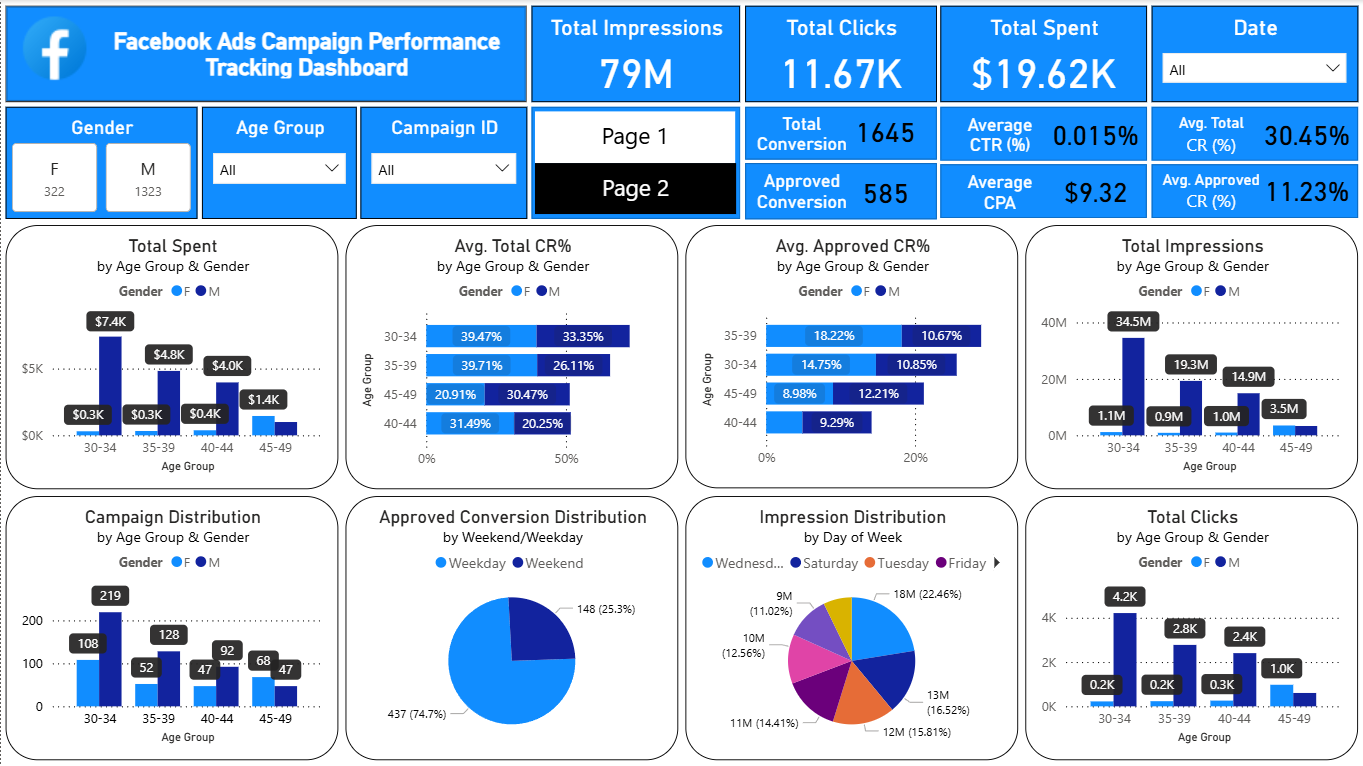

The page's visual inventory and layout, read from the dashboard file:
{"tool":"powerbi","page":{"name":"Page 2","canvas":[1280,720],"ordinal":1},"visuals":[{"type":"shape","box":[4.3,5.4,489.8,90.6],"z":0},{"type":"image","box":[8.6,4.3,83.1,82],"z":1000},{"type":"textbox","box":[66.9,11.9,448.8,66.9],"z":2000},{"type":"card","title":"Total Impressions","fields":{"Values":["Sum(data.impressions)"]},"box":[498.4,5.4,196.3,90.6],"z":3000},{"type":"card","title":"Total Spent","fields":{"Values":["Sum(data.spent)"]},"box":[882.5,5.4,194.2,90.6],"z":4000},{"type":"advancedSlicerVisual","title":"Gender","fields":{"Label":["Sum(data.total_conversion)"],"Values":["data.gender"]},"box":[4.3,100.3,180.2,105.7],"z":5000},{"type":"slicer","title":"Age Group","fields":{"Values":["data.age_group"]},"box":[188.8,100.3,145.6,105.7],"z":6000},{"type":"slicer","title":"Campaign  ID","fields":{"Values":["data.campaign_id"]},"box":[337.5,100.5,156.8,105.3],"z":7000},{"type":"shape","box":[497.9,100.5,196.3,105.3],"z":8000},{"type":"actionButton","box":[501.5,104.1,187.9,49],"z":9000},{"type":"actionButton","box":[501.5,153.2,189.1,47.9],"z":10000},{"type":"slicer","title":"Date","fields":{"Values":["data.DateLabel"]},"box":[1081,5.4,194,90.6],"z":11000},{"type":"card","title":"Total Clicks","fields":{"Values":["Sum(data.clicks)"]},"box":[699,5.4,180,90.6],"z":12000},{"type":"shape","box":[882.5,100.3,194.2,50.7],"z":13000},{"type":"shape","box":[882.5,154.3,194,50.7],"z":14000},{"type":"shape","box":[1081,154.3,194,50.7],"z":15000},{"type":"shape","box":[1081,100,194,50.7],"z":16000},{"type":"textbox","box":[882.5,100.3,112,50],"z":17000},{"type":"card","title":"Avg. CTR (%)","fields":{"Values":["Avg(data.CTR)"]},"box":[979.6,100.3,97.1,50.7],"z":18000},{"type":"textbox","box":[882.5,154.3,112.2,50.7],"z":19000},{"type":"card","title":"Avg. CTR (%)","fields":{"Values":["Avg(data.CPA)"]},"box":[979.6,154.3,97.1,50.7],"z":20000},{"type":"textbox","box":[1081,154,112,50],"z":21000},{"type":"card","title":"Avg. CTR (%)","fields":{"Values":["Avg(data.CR%)"]},"box":[1178.1,153.2,97.1,50.7],"z":22000},{"type":"textbox","box":[1081,100.3,111.1,51],"z":23000},{"type":"textbox","box":[1081,101.4,112.2,49.6],"z":24000},{"type":"card","title":"Avg. CTR (%)","fields":{"Values":["Avg(data.Total CR%)"]},"box":[1178.1,100.3,97.1,50.7],"z":25000},{"type":"barChart","title":"Avg. Approved CR%","fields":{"Category":["data.age_group"],"Y":["Avg(data.Approved CR%)"],"Series":["data.gender"]},"box":[643,211.5,312.9,247.1],"z":26000},{"type":"clusteredColumnChart","title":"Campaign Distribution","fields":{"Category":["data.age_group"],"Series":["data.gender"],"Y":["CountNonNull(data.campaign_id)"]},"box":[4.3,466.1,312.9,248.1],"z":27000},{"type":"barChart","title":"Avg. Total CR%","fields":{"Category":["data.age_group"],"Series":["data.gender"],"Y":["Avg(data.Total CR%)"]},"box":[324,211.5,313,248.1],"z":28000},{"type":"clusteredColumnChart","title":"Total Spent","fields":{"Category":["data.age_group"],"Series":["data.gender"],"Y":["Sum(data.spent)"]},"box":[4.3,211.5,312.9,248.1],"z":29000},{"type":"clusteredColumnChart","title":"Total Impressions","fields":{"Category":["data.age_group"],"Series":["data.gender"],"Y":["Sum(data.impressions)"]},"box":[962.3,211.5,312.9,248.1],"z":30000},{"type":"pieChart","title":"Approved Conversion Distribution","fields":{"Y":["Sum(data.approved_conversion)"],"Category":["data.WeekdayWeekend"]},"box":[323.6,466.1,312.9,248.1],"z":31000},{"type":"pieChart","title":"Impression Distribution","fields":{"Y":["Sum(data.impressions)"],"Category":["data.DayOfWeek"]},"box":[643,466.1,312.9,248.1],"z":32000},{"type":"clusteredColumnChart","title":"Total Clicks","fields":{"Category":["data.age_group"],"Series":["data.gender"],"Y":["Sum(data.clicks)"]},"box":[962.3,466.1,312.9,248.1],"z":33000},{"type":"shape","box":[699.1,100.3,180.2,49.6],"z":34000},{"type":"shape","box":[699.1,153.2,180.2,52.9],"z":35000},{"type":"textbox","box":[699.1,99.3,106.8,51.8],"z":36000},{"type":"card","title":"Avg. CTR (%)","fields":{"Values":["Sum(data.approved_conversion)"]},"box":[782.2,155.4,97.1,50.7],"z":37000},{"type":"card","title":"Avg. CTR (%)","fields":{"Values":["Sum(data.total_conversion)"]},"box":[782.2,98.2,97.1,50.7],"z":38000},{"type":"textbox","box":[699.1,153.2,106.8,51.8],"z":39000}]}

Visuals, with their boxes in screenshot pixels (x1, y1, x2, y2), scaled from the page's 1280x720 canvas onto the 1363x766 screenshot:
shape: (5,6,526,102)
image: (9,5,98,92)
textbox: (71,13,549,84)
"Total Impressions" card: (531,6,740,102)
"Total Spent" card: (940,6,1147,102)
"Gender" advancedSlicerVisual: (5,107,196,219)
"Age Group" slicer: (201,107,356,219)
"Campaign  ID" slicer: (359,107,526,219)
shape: (530,107,739,219)
actionButton: (534,111,734,163)
actionButton: (534,163,735,214)
"Date" slicer: (1151,6,1358,102)
"Total Clicks" card: (744,6,936,102)
shape: (940,107,1147,161)
shape: (940,164,1146,218)
shape: (1151,164,1358,218)
shape: (1151,106,1358,160)
textbox: (940,107,1059,160)
"Avg. CTR (%)" card: (1043,107,1147,161)
textbox: (940,164,1059,218)
"Avg. CTR (%)" card: (1043,164,1147,218)
textbox: (1151,164,1270,217)
"Avg. CTR (%)" card: (1254,163,1358,217)
textbox: (1151,107,1269,161)
textbox: (1151,108,1271,161)
"Avg. CTR (%)" card: (1254,107,1358,161)
"Avg. Approved CR%" barChart: (685,225,1018,488)
"Campaign Distribution" clusteredColumnChart: (5,496,338,760)
"Avg. Total CR%" barChart: (345,225,678,489)
"Total Spent" clusteredColumnChart: (5,225,338,489)
"Total Impressions" clusteredColumnChart: (1025,225,1358,489)
"Approved Conversion Distribution" pieChart: (345,496,678,760)
"Impression Distribution" pieChart: (685,496,1018,760)
"Total Clicks" clusteredColumnChart: (1025,496,1358,760)
shape: (744,107,936,159)
shape: (744,163,936,219)
textbox: (744,106,858,161)
"Avg. CTR (%)" card: (833,165,936,219)
"Avg. CTR (%)" card: (833,104,936,158)
textbox: (744,163,858,218)
